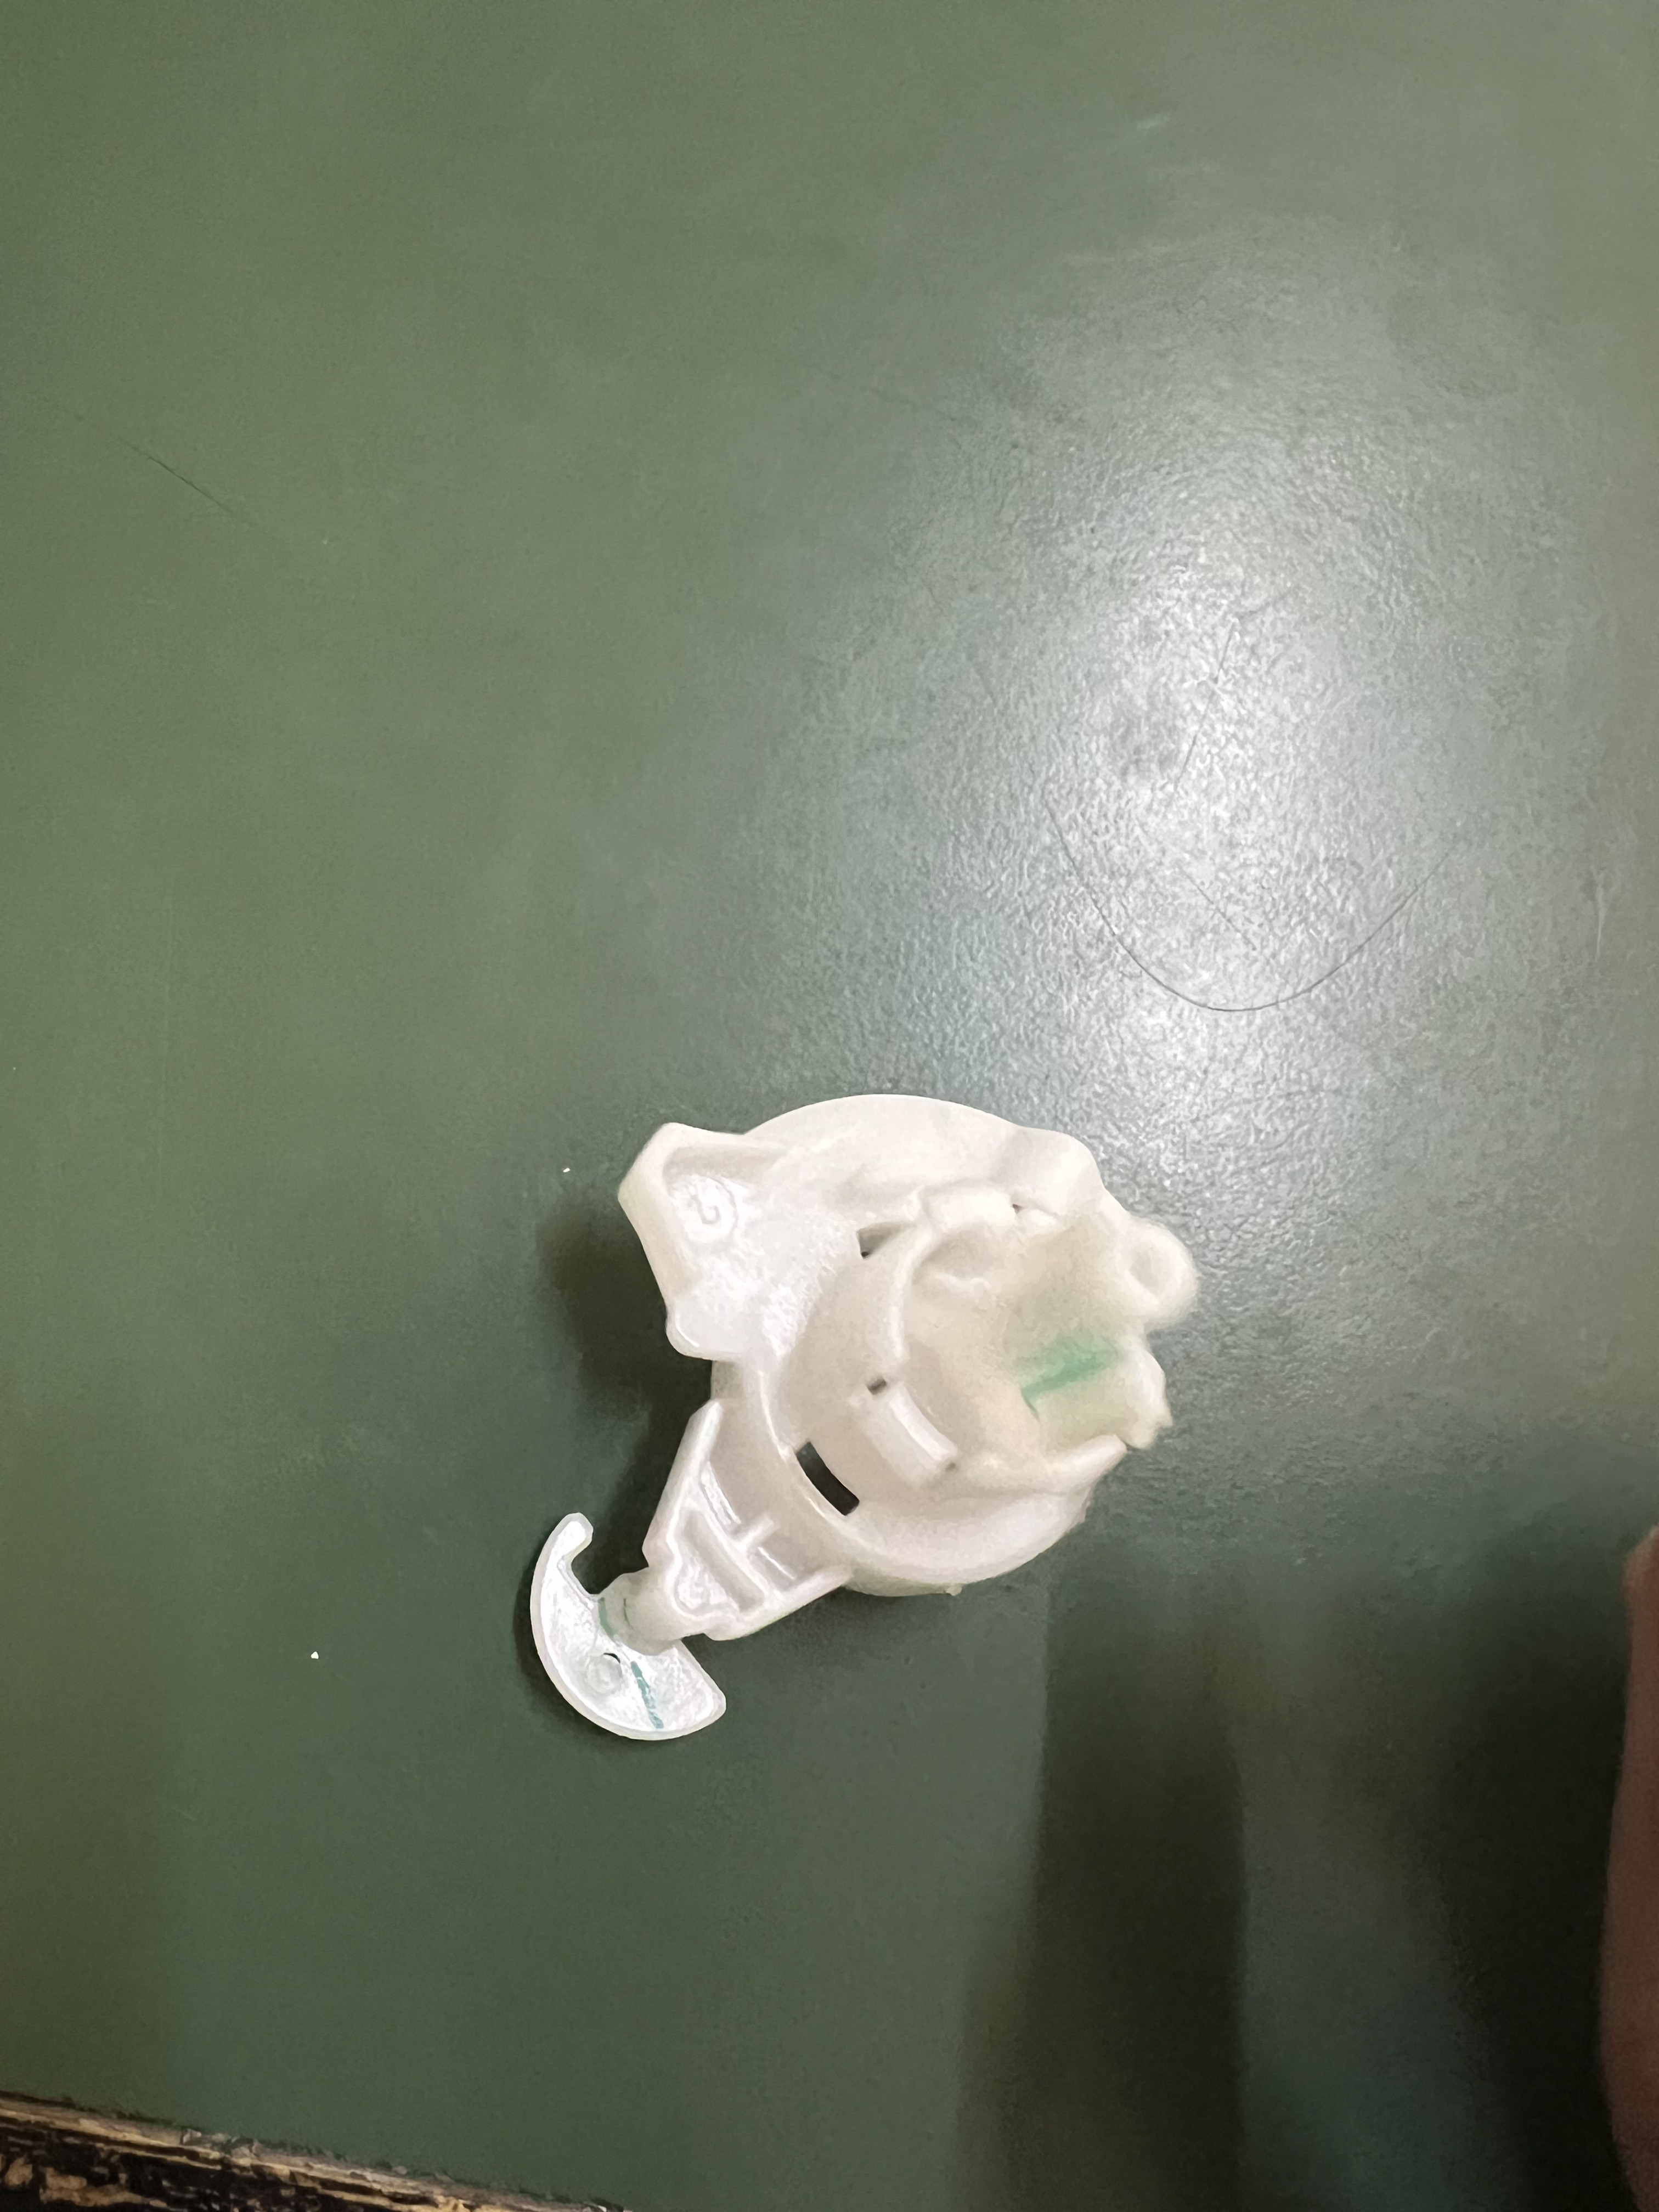drain_lever: (433, 1107, 1218, 1770)
